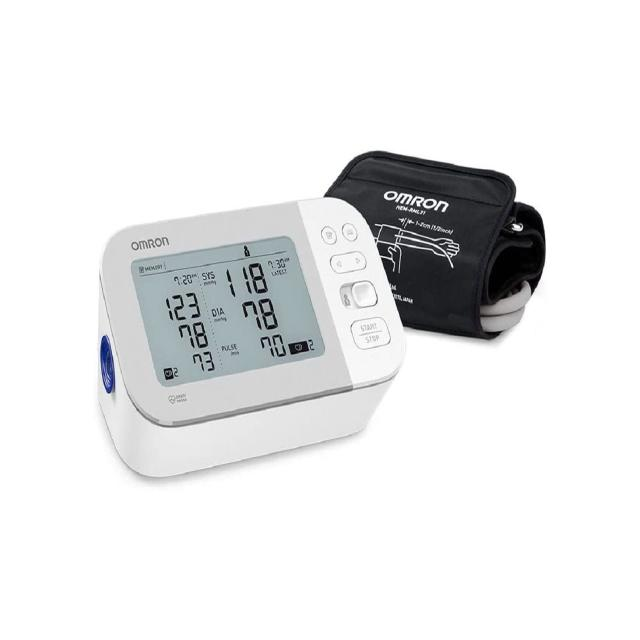dia: (239, 293, 282, 340), (175, 318, 212, 354)
pul: (256, 333, 289, 363), (189, 348, 219, 377)
ssd: (131, 230, 327, 388)
sys: (221, 255, 274, 302), (161, 286, 208, 327)
